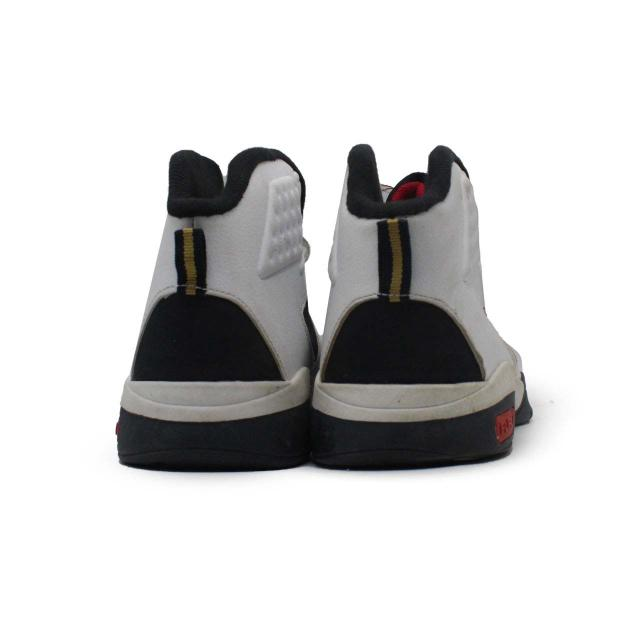heel: (322, 137, 486, 383), (137, 143, 299, 380)
midsole: (119, 370, 321, 470), (315, 366, 517, 466)
